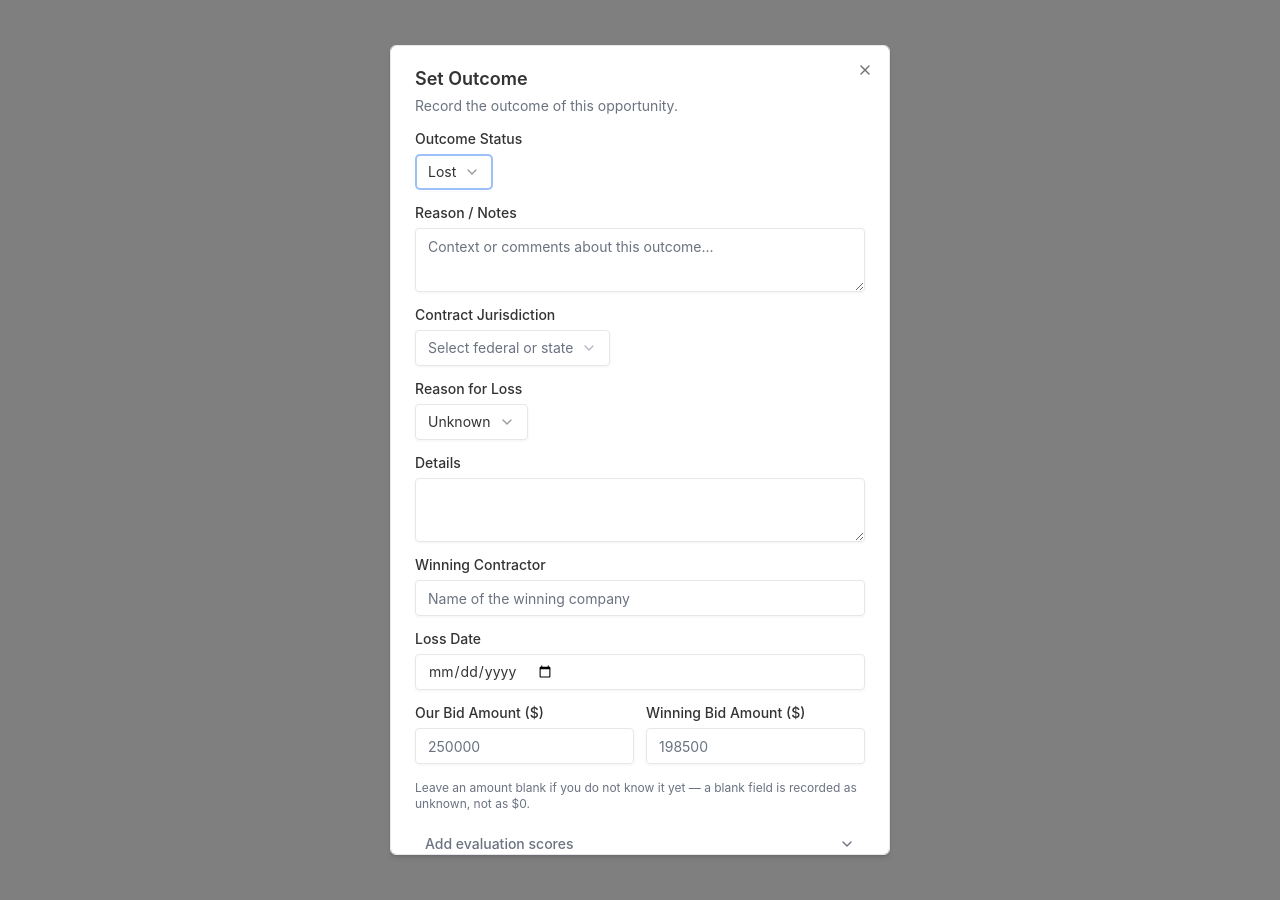
Test case: SetOpportunityOutcomeDialog — loss pricing and evaluation scores › evaluation scores › keeps the score inputs behind a disclosure until asked for
Expected: the field labelled "technical" is not shown
Click the button "Add evaluation scores".
click(499, 844)  # box [415,828,865,860]
(page scrolled)
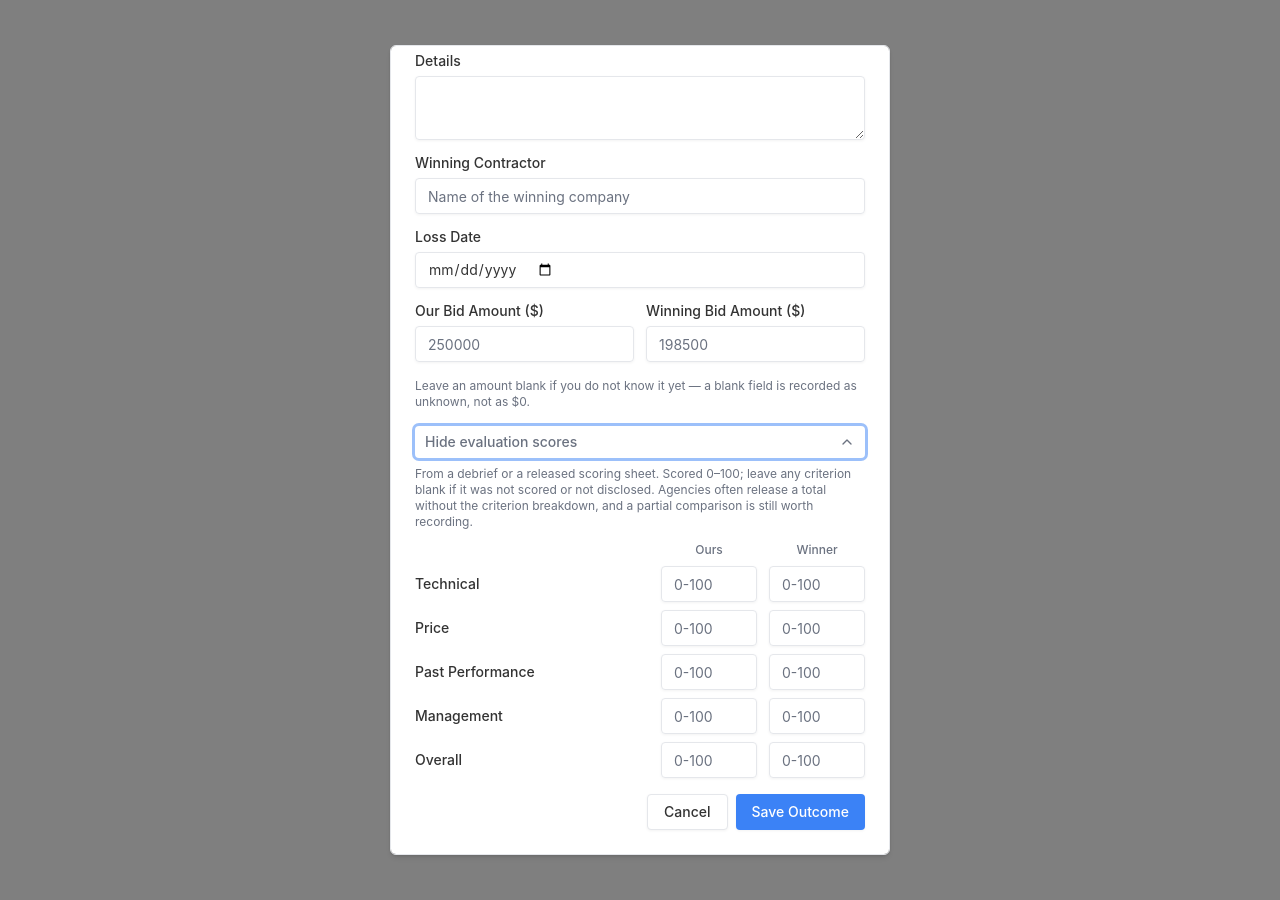
Now the number field labelled "Technical" is shown, box [661,566,757,602]
Now the number field labelled "Price" is shown, box [661,610,757,646]
Now the number field labelled "Past Performance" is shown, box [661,654,757,690]
